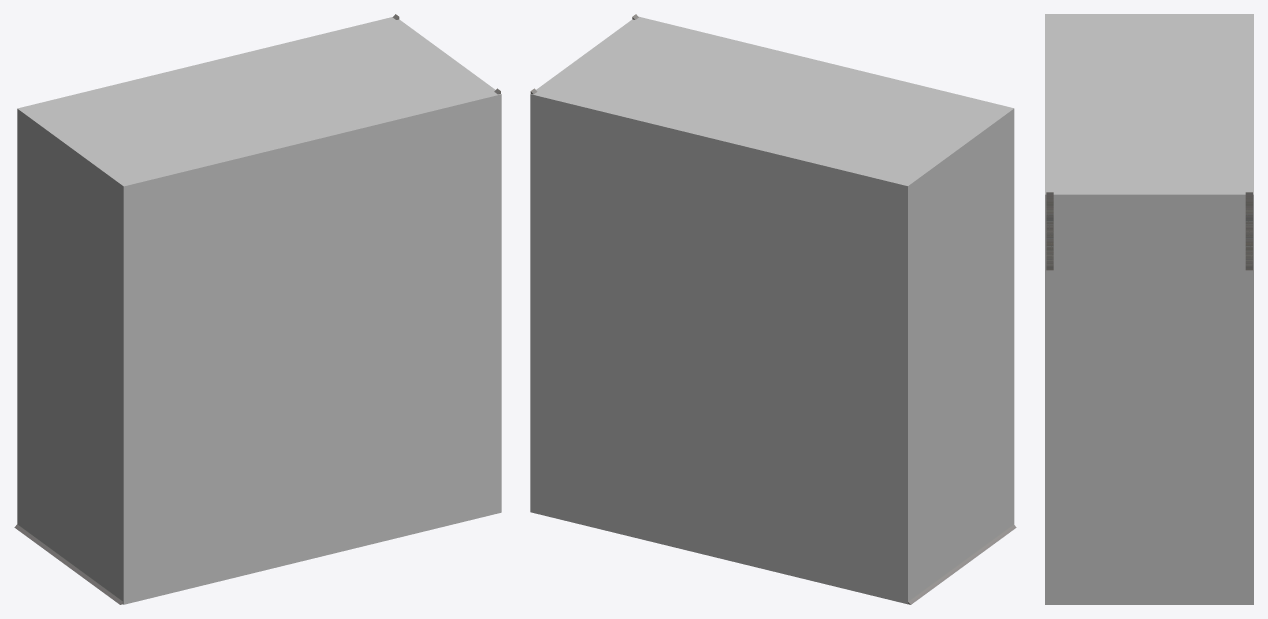
File: stairs.DAE
The picture shows the model from 3 angles, left to right: view 1: azimuth 30°, elevation 25°; view 2: azimuth 150°, elevation 25°; view 3: azimuth 270°, elevation 25°; orthographic projection.
Parts seen in each view (by area): view 1: bounds, col-01; view 2: bounds, col-01; view 3: bounds, col-02, col-03.
Boxes of the visible parts, x1=… form: bounds: x1=17, y1=17, x2=501, y2=604; col-01: x1=14, y1=524, x2=122, y2=604; bounds: x1=530, y1=16, x2=1014, y2=604; col-01: x1=908, y1=524, x2=1016, y2=604; bounds: x1=1045, y1=14, x2=1253, y2=604; col-02: x1=1046, y1=192, x2=1053, y2=270; col-03: x1=1245, y1=192, x2=1252, y2=270.
Bounding box in the file's own units: 626 × 303 × 662.
2 materials, 1 textured.
